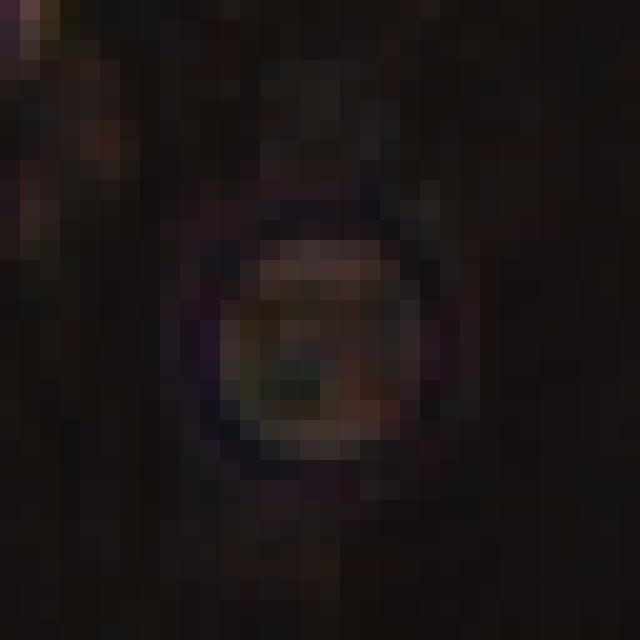SPEED LIMIT 120: (180, 211, 458, 483)
